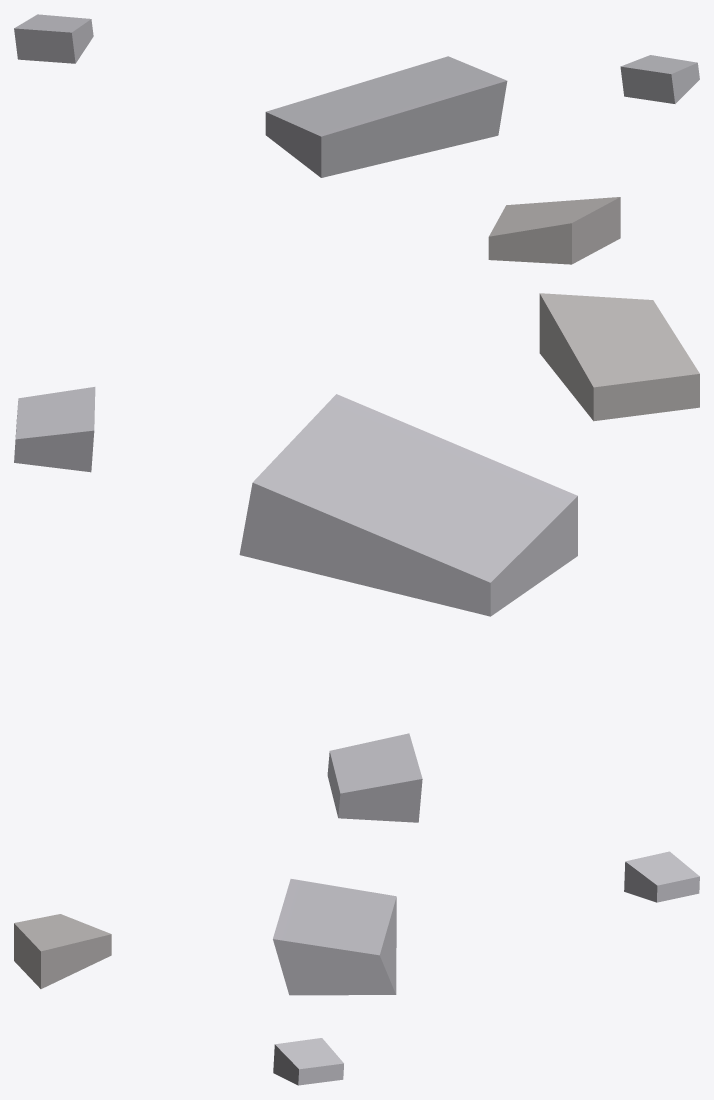
The model's file is Rock_Blocks_s_03.fbx.
3 renders of one model, top to bottom at view 1: azimuth 30°, elevation 25°; view 2: azimuth 150°, elevation 25°; view 3: azimuth 270°, elevation 25°, orthographic. The views are drawn at different scales.
Visible parts, largest first — view 1: Rock_Blocks_s_03; view 2: Rock_Blocks_s_03; view 3: Rock_Blocks_s_03.
Boxes of the visible parts, box(x1,y1,x2,y2) form: Rock_Blocks_s_03: box(14, 14, 699, 264); Rock_Blocks_s_03: box(14, 293, 699, 822); Rock_Blocks_s_03: box(14, 851, 699, 1085).
Bounding box in the file's own units: 49.19 × 6.87 × 66.17.
